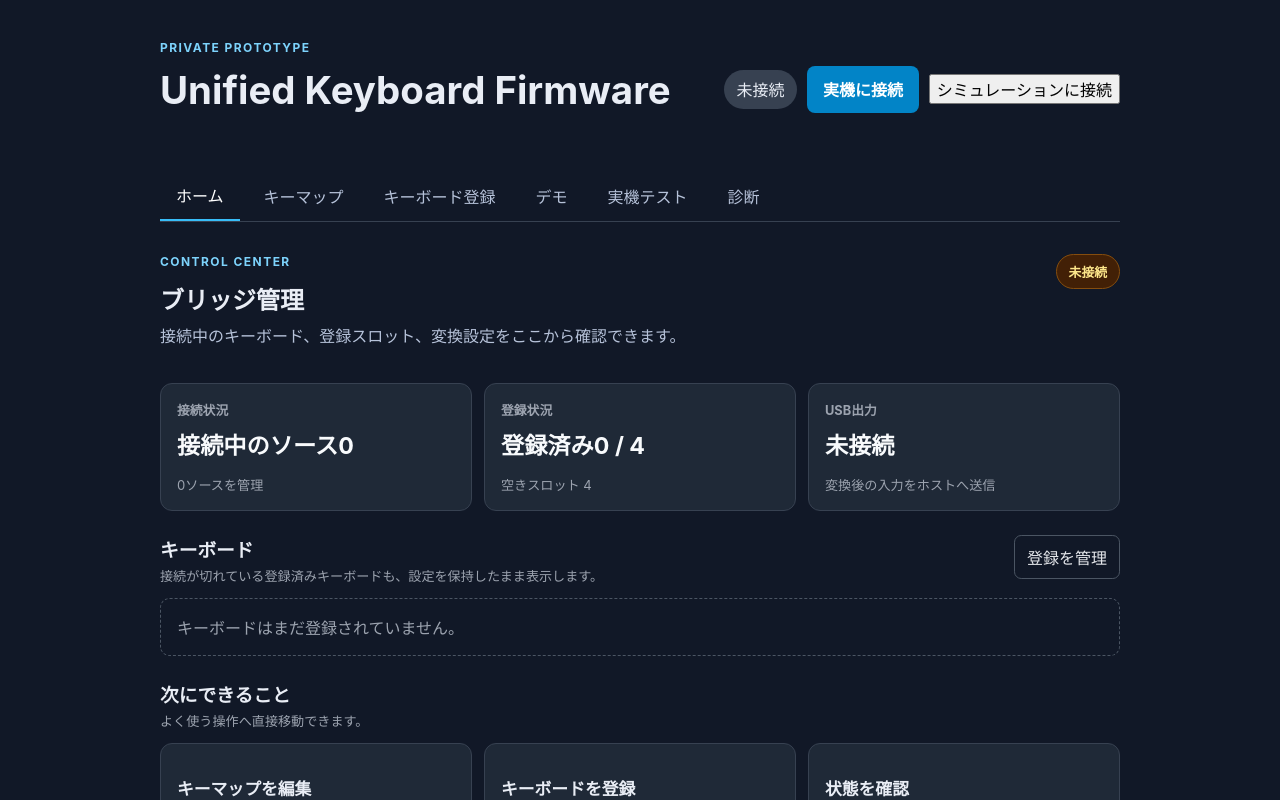
Test: physical bridge › uses live source diagnostics on the management dashboard after physical connection
Step 1. Click the button "実機に接続" → (863,89), box 807,66 -> 919,113
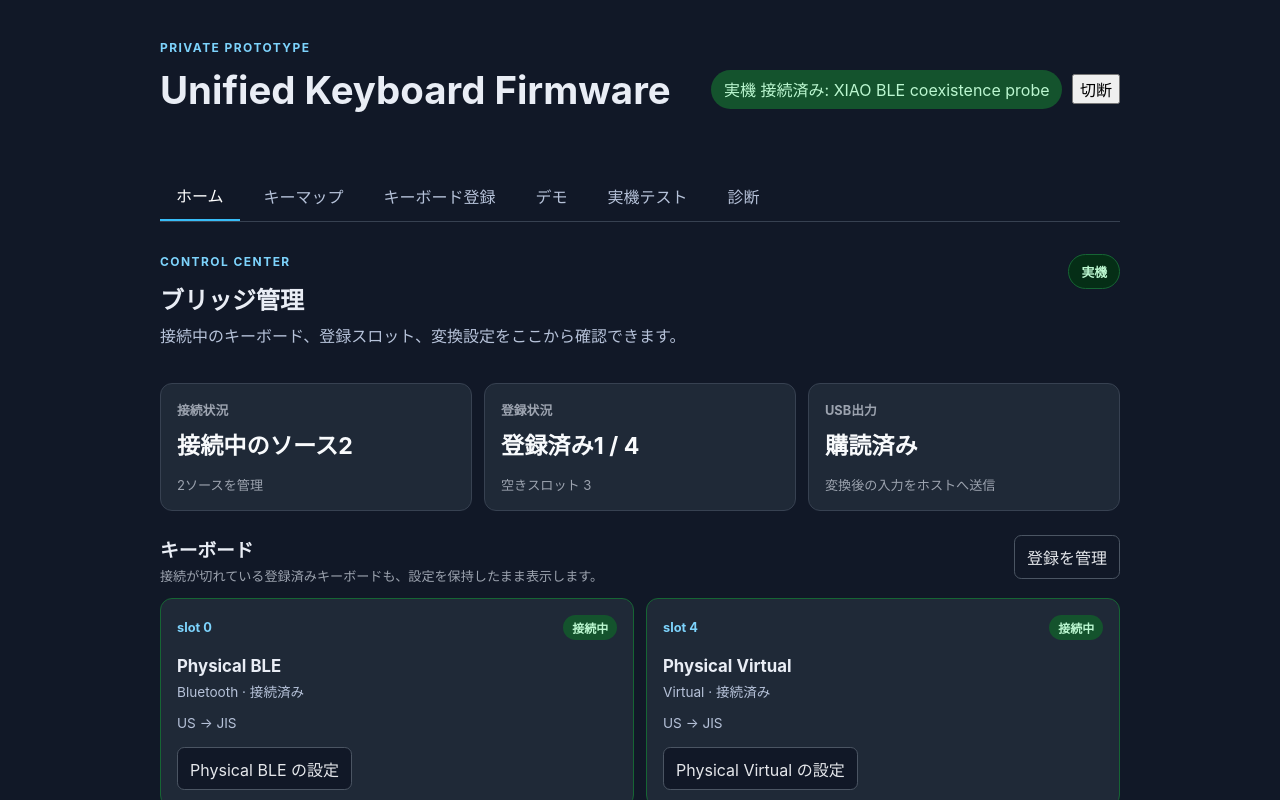
expect the heading "Physical BLE" is shown: met, box 177,656 -> 281,676
expect the heading "Physical Virtual" is shown: met, box 663,656 -> 792,676
expect the text "実機" is shown: met, box 1068,254 -> 1120,289
